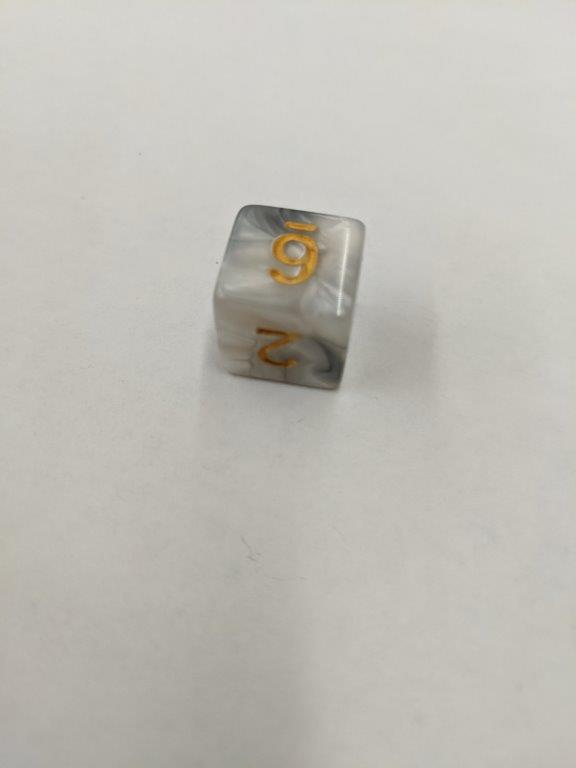d6-6: (211, 204, 364, 394)
